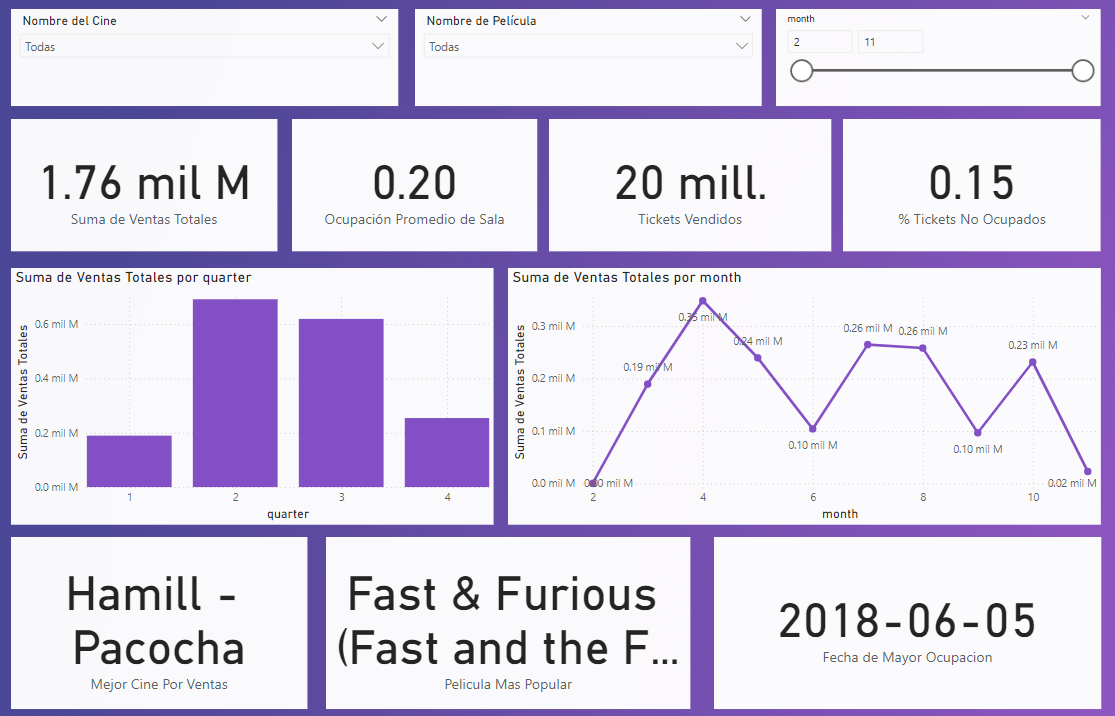

The page's visual inventory and layout, read from the dashboard file:
{"tool":"powerbi","page":{"name":"Resumen General","canvas":[1280,900],"ordinal":0},"visuals":[{"type":"slicer","fields":{"Values":["cinemas.name"]},"box":[17,26.1,438.7,109.9],"z":0},{"type":"slicer","fields":{"Values":["films.title"]},"box":[474.9,26.1,393.3,109.9],"z":1000},{"type":"slicer","fields":{"Values":["tickets.month"]},"box":[884.1,26.1,368.4,109.9],"z":2000},{"type":"card","fields":{"Values":["tickets.Suma de Ventas Totales"]},"box":[17,150.8,301.5,149.6],"z":3000},{"type":"card","fields":{"Values":["tickets.Ocupación Promedio de Sala"]},"box":[335.5,150.8,277.7,149.6],"z":4000},{"type":"card","fields":{"Values":["tickets.tickets_sold"]},"box":[626.8,150.8,319.6,149.6],"z":5000},{"type":"card","fields":{"Values":["tickets.% Tickets No Ocupados"]},"box":[960.1,150.8,292.4,149.6],"z":6000},{"type":"columnChart","fields":{"Category":["tickets.quarter"],"Y":["tickets.Suma de Ventas Totales"]},"box":[17,319.6,547.5,291.3],"z":7000},{"type":"lineChart","fields":{"Y":["tickets.Suma de Ventas Totales"],"Category":["tickets.month"]},"box":[580.4,319.6,672.2,291.3],"z":8000},{"type":"card","fields":{"Values":["tickets.Mejor Cine Por Ventas"]},"box":[17,624.6,335.5,195],"z":9000},{"type":"card","fields":{"Values":["films.Pelicula Mas Popular"]},"box":[374.1,624.6,412.6,195],"z":10000},{"type":"card","fields":{"Values":["tickets.Fecha de Mayor Ocupacion"]},"box":[813.9,624.6,438.7,195],"z":11000}]}

Visuals, with their boxes on the page's 1280x900 design canvas (x1, y1, x2, y2). These are canvas units, not pixel positions in the 1115x716 screenshot, which may show the page scaled, cropped or inside an application window:
slicer - cinemas.name: locate(17, 26, 456, 136)
slicer - films.title: locate(475, 26, 868, 136)
slicer - tickets.month: locate(884, 26, 1252, 136)
card - tickets.Suma de Ventas Totales: locate(17, 151, 318, 300)
card - tickets.Ocupación Promedio de Sala: locate(336, 151, 613, 300)
card - tickets.tickets_sold: locate(627, 151, 946, 300)
card - tickets.% Tickets No Ocupados: locate(960, 151, 1252, 300)
columnChart - tickets.quarter x tickets.Suma de Ventas Totales: locate(17, 320, 564, 611)
lineChart - tickets.Suma de Ventas Totales x tickets.month: locate(580, 320, 1253, 611)
card - tickets.Mejor Cine Por Ventas: locate(17, 625, 352, 820)
card - films.Pelicula Mas Popular: locate(374, 625, 787, 820)
card - tickets.Fecha de Mayor Ocupacion: locate(814, 625, 1253, 820)
